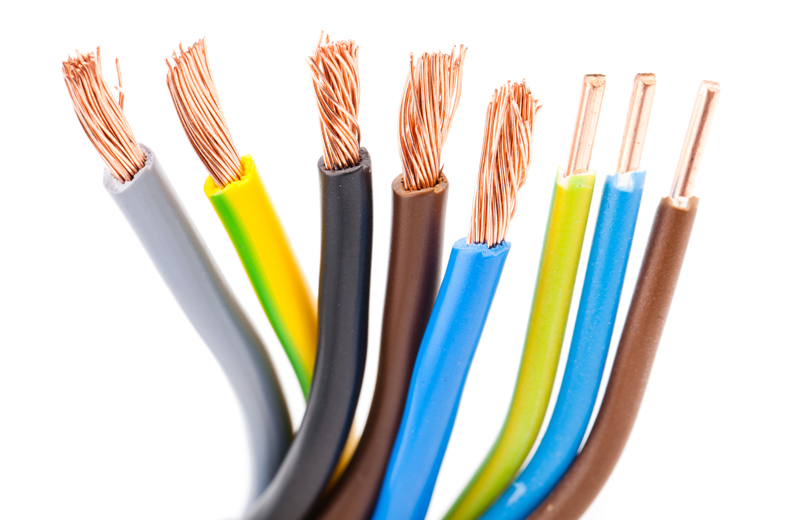Nonrec_Tangler: (41, 26, 734, 509)
